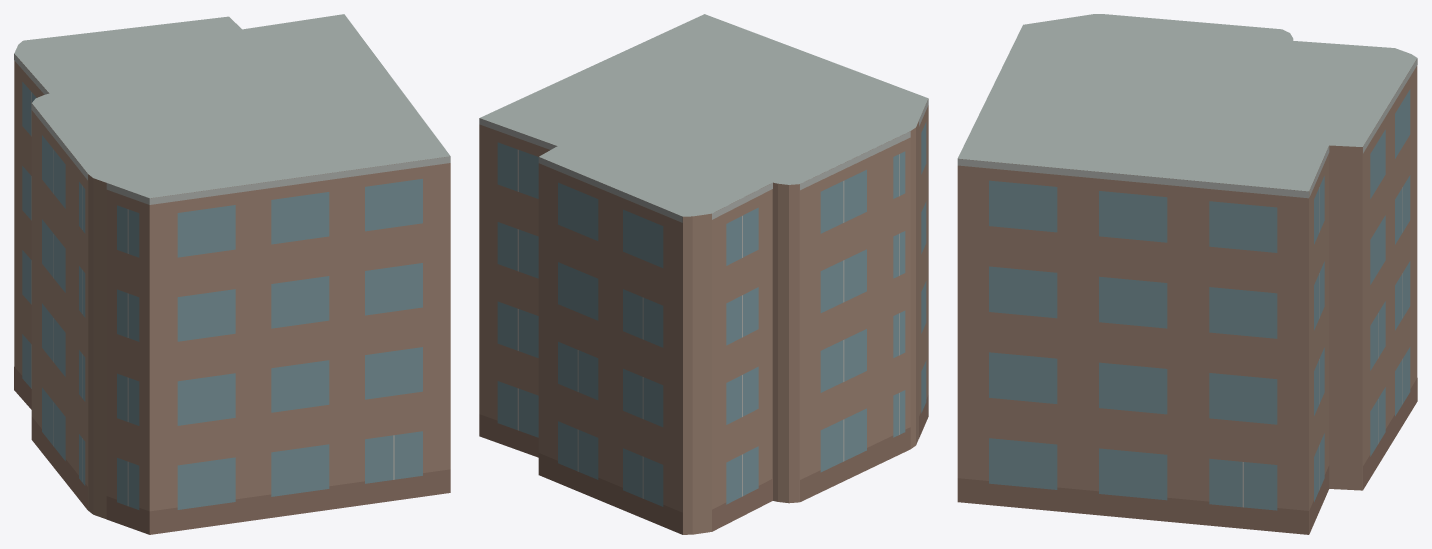
The model's file is survey-upis-32646405.glb.
The picture shows the model from 3 angles, left to right: view 1: azimuth 30°, elevation 25°; view 2: azimuth 150°, elevation 25°; view 3: azimuth 270°, elevation 25°; orthographic projection. The views are drawn at different scales.
Visible parts, largest first — view 1: survey-upis-32646405.tmp; view 2: survey-upis-32646405.tmp; view 3: survey-upis-32646405.tmp.
Boxes of the visible parts, x1,y1,x2,y2 form: survey-upis-32646405.tmp: (14, 14, 450, 534); survey-upis-32646405.tmp: (479, 14, 928, 534); survey-upis-32646405.tmp: (957, 14, 1417, 534).
Bounding box in the file's own units: 13.53 × 12.2 × 14.82.
